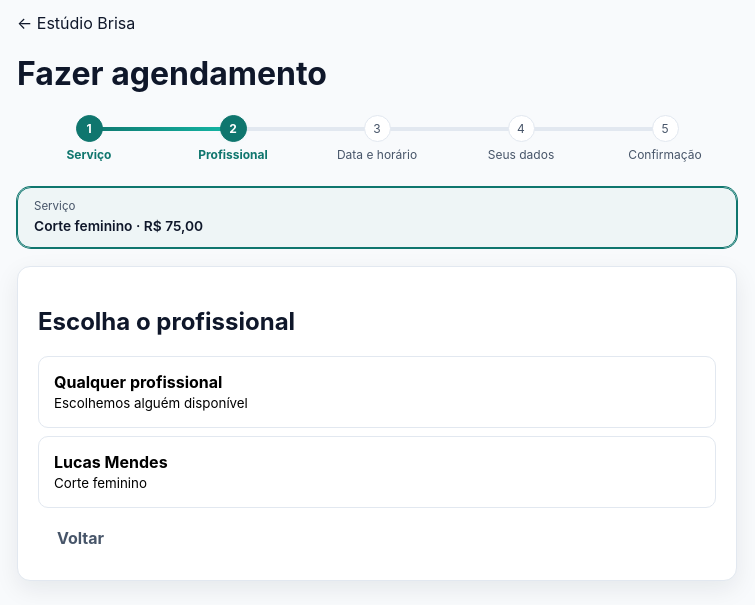
Test: agendamento de um estabelecimento real › avisa quando não há horários nos próximos dias
Expected: the heading "Escolha o profissional" is shown, [38,307,295,336]
Step 1. Click the button "Lucas Mendes" → [111, 462], box [38,436,716,508]
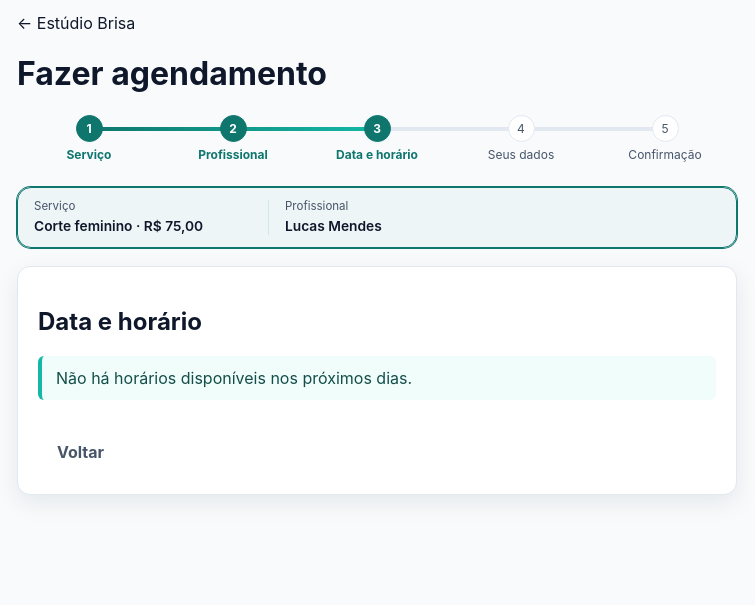
Expected: the text "Não há horários disponíveis nos próximos dias." is shown, [38,356,716,400]
